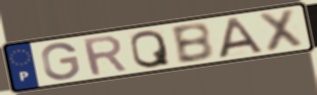A: (218, 16, 265, 60)
B: (168, 21, 217, 66)
G: (40, 41, 82, 82)
Q: (128, 28, 173, 69)
R: (80, 33, 130, 78)
X: (256, 7, 306, 54)
